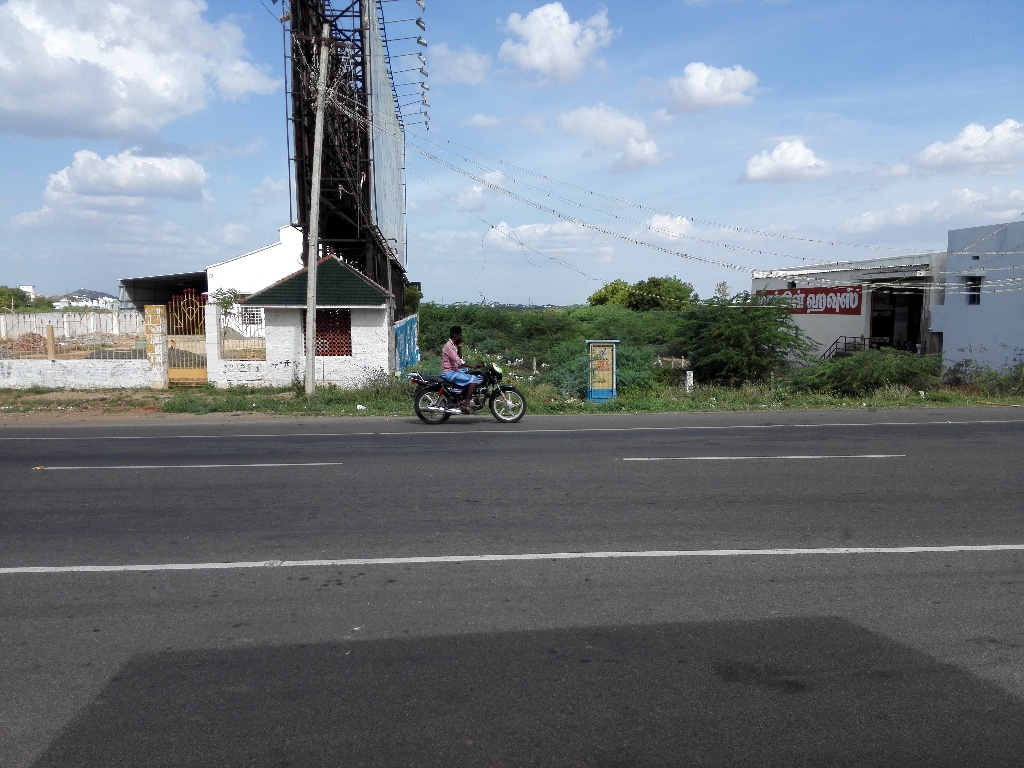biker: (395, 292, 545, 435)
nohelmet: (443, 320, 472, 351)
